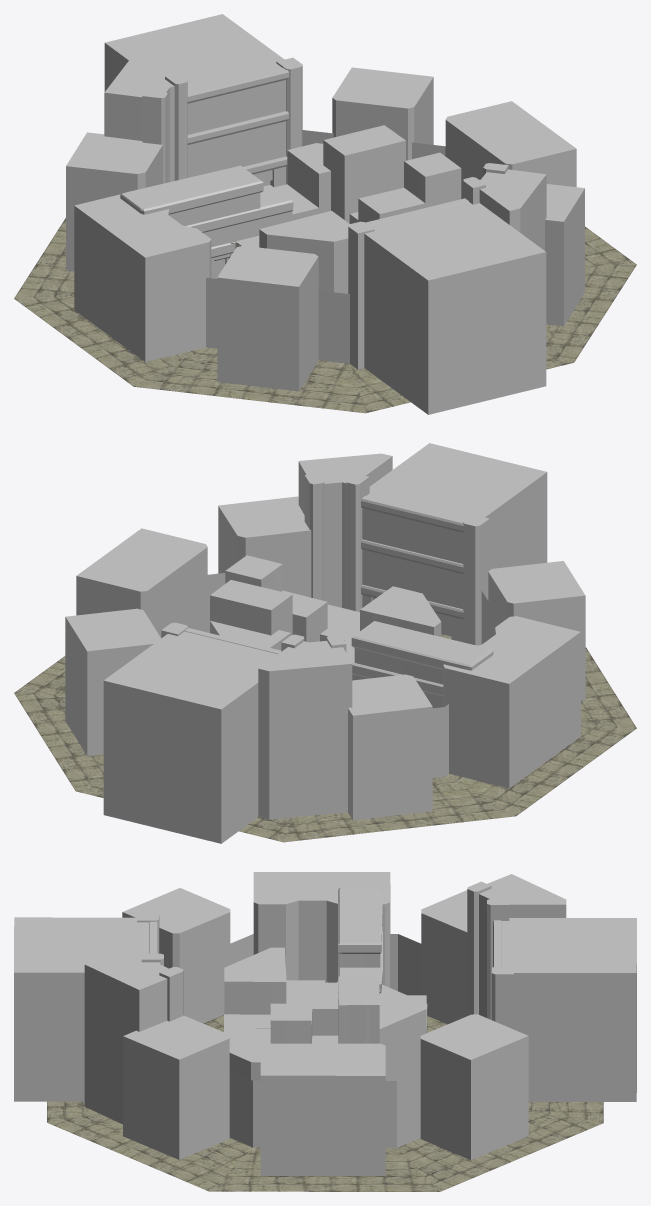
The model's file is SM_TheSamePlace_11_Block_00.fbx.
The picture shows the model from 3 angles, top to bottom: view 1: azimuth 30°, elevation 25°; view 2: azimuth 150°, elevation 25°; view 3: azimuth 270°, elevation 25°; orthographic projection. The views are drawn at different scales.
Parts seen in each view (by area): view 1: SM_TheSamePlace_11_Block_00; view 2: SM_TheSamePlace_11_Block_00; view 3: SM_TheSamePlace_11_Block_00.
Part boxes in pixels (left/top/right/bottom): SM_TheSamePlace_11_Block_00: left=14, top=14, right=636, bottom=414; SM_TheSamePlace_11_Block_00: left=14, top=443, right=636, bottom=843; SM_TheSamePlace_11_Block_00: left=14, top=872, right=636, bottom=1191.
Bounding box in the file's own units: 6525 × 2159 × 7295.
